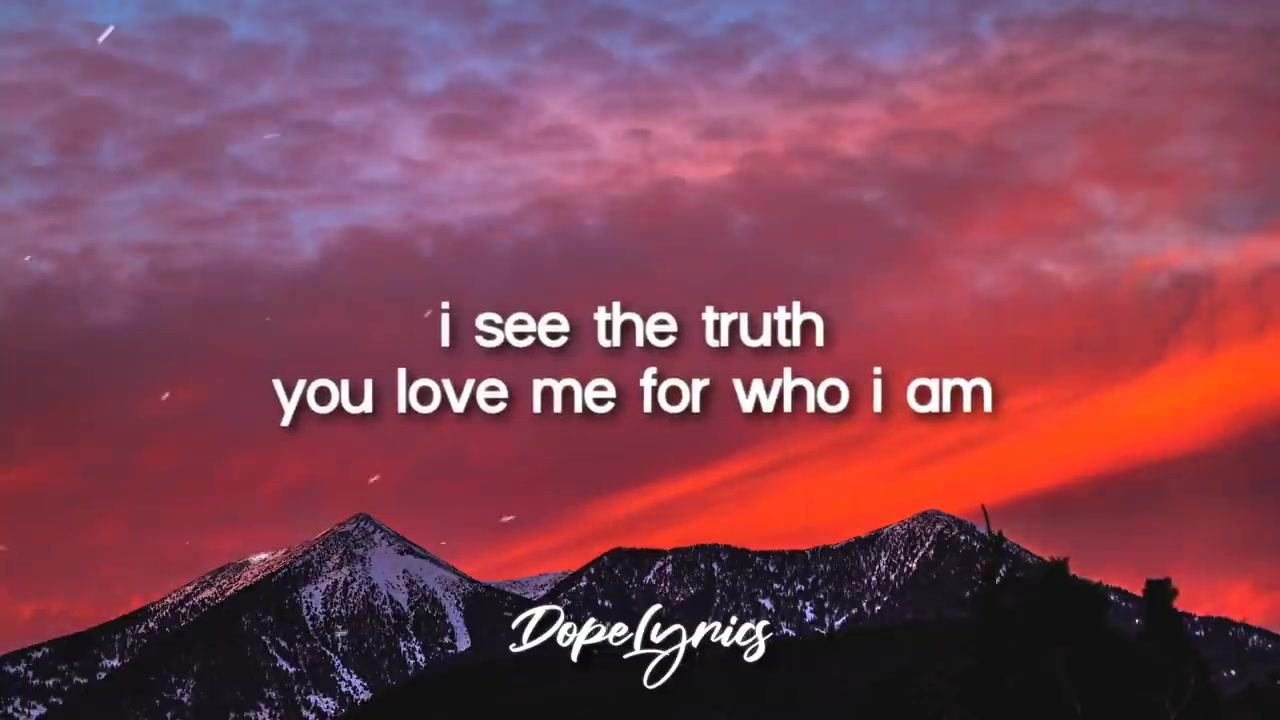text-label: (263, 362, 1001, 435), (431, 295, 829, 356)
